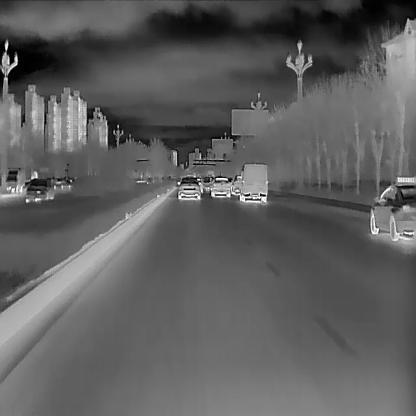car: (370, 176, 415, 241), (239, 163, 267, 203), (175, 176, 201, 201), (24, 177, 51, 201), (209, 176, 230, 197), (231, 174, 244, 194)
